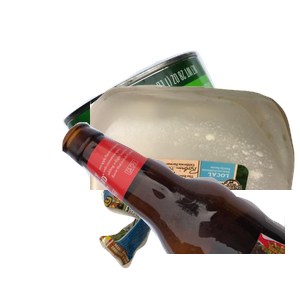glass: (60, 120, 300, 300)
metal: (60, 48, 300, 228)
plastic: (90, 82, 300, 262)
trash: (97, 151, 283, 300)
